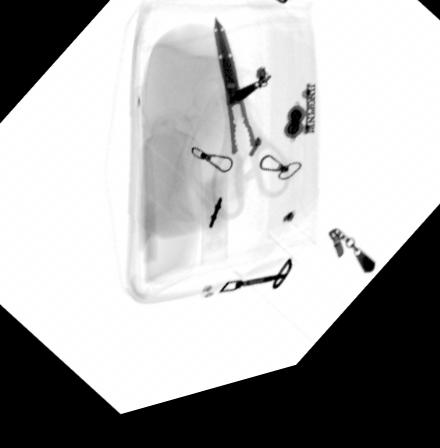Scissors: (208, 28, 292, 233)
